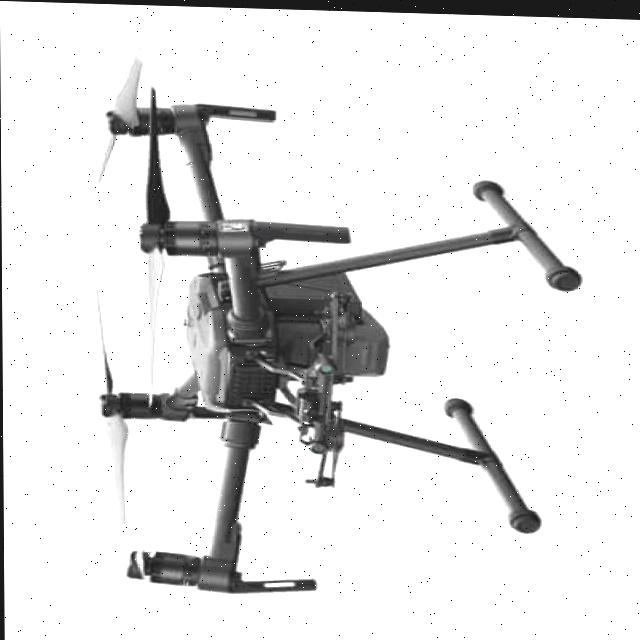drone: (61, 30, 384, 608)
